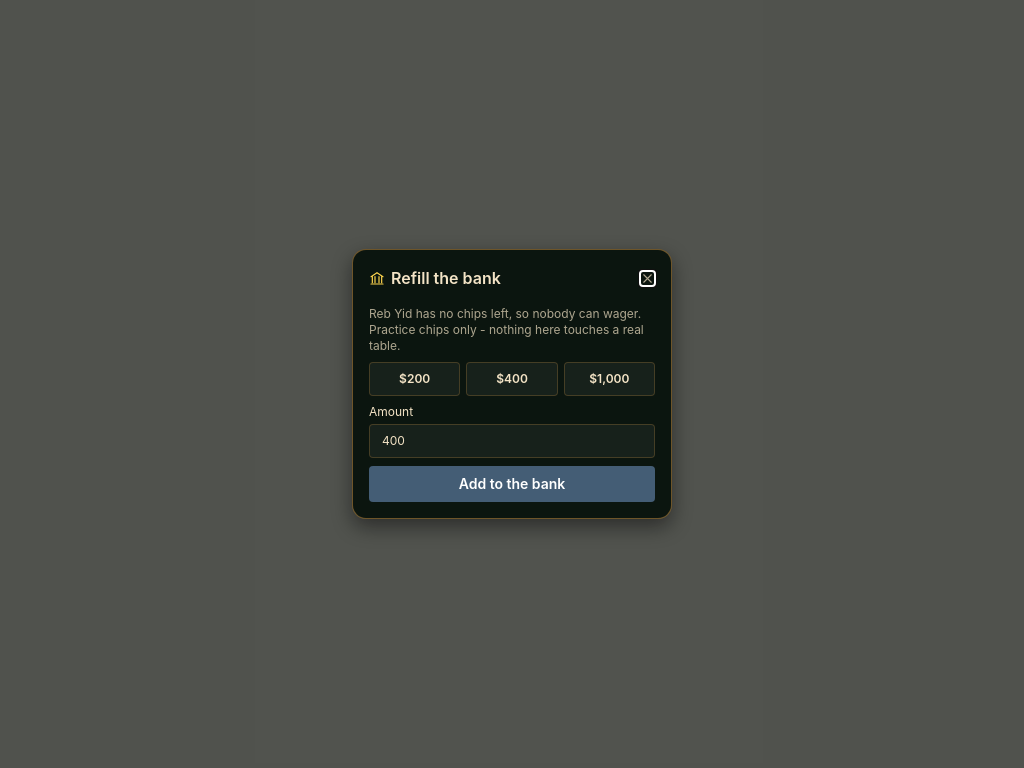
Scenario: choosing what to put back into a practice bank › refuses to send nothing, and says why
The width and height of the screenshot is (1024, 768).
Click the number field named "Bank refill amount": (512, 441) x1=369 y1=424 x2=655 y2=458
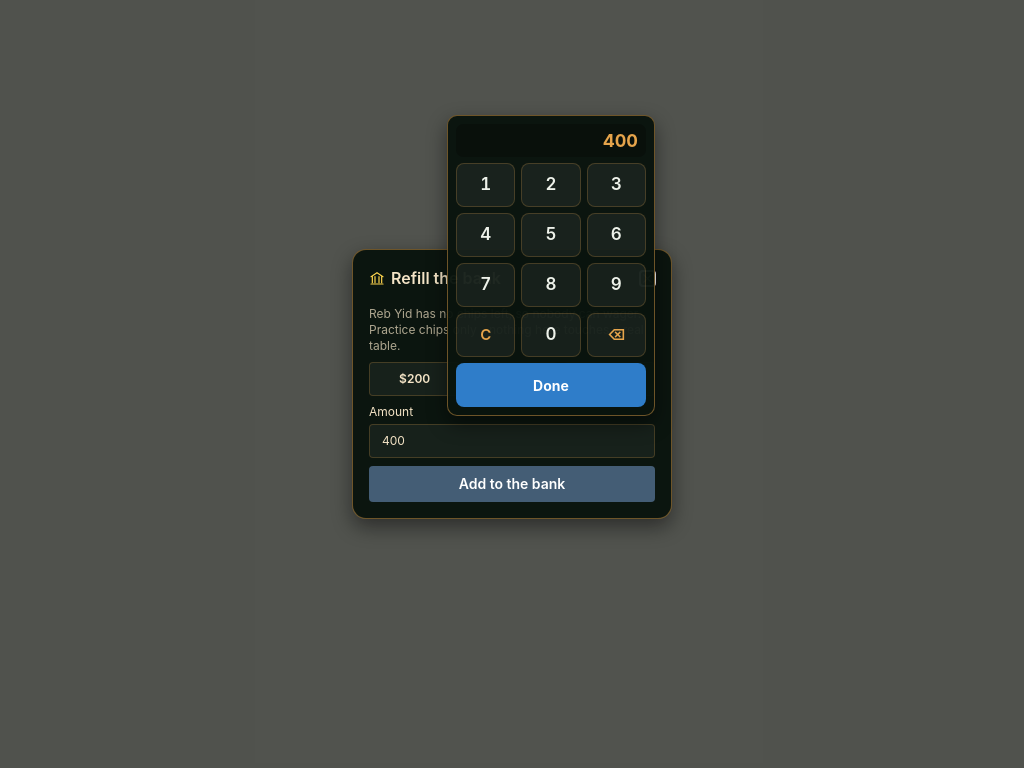
Click the button named "Clear": (486, 335) x1=456 y1=313 x2=515 y2=357
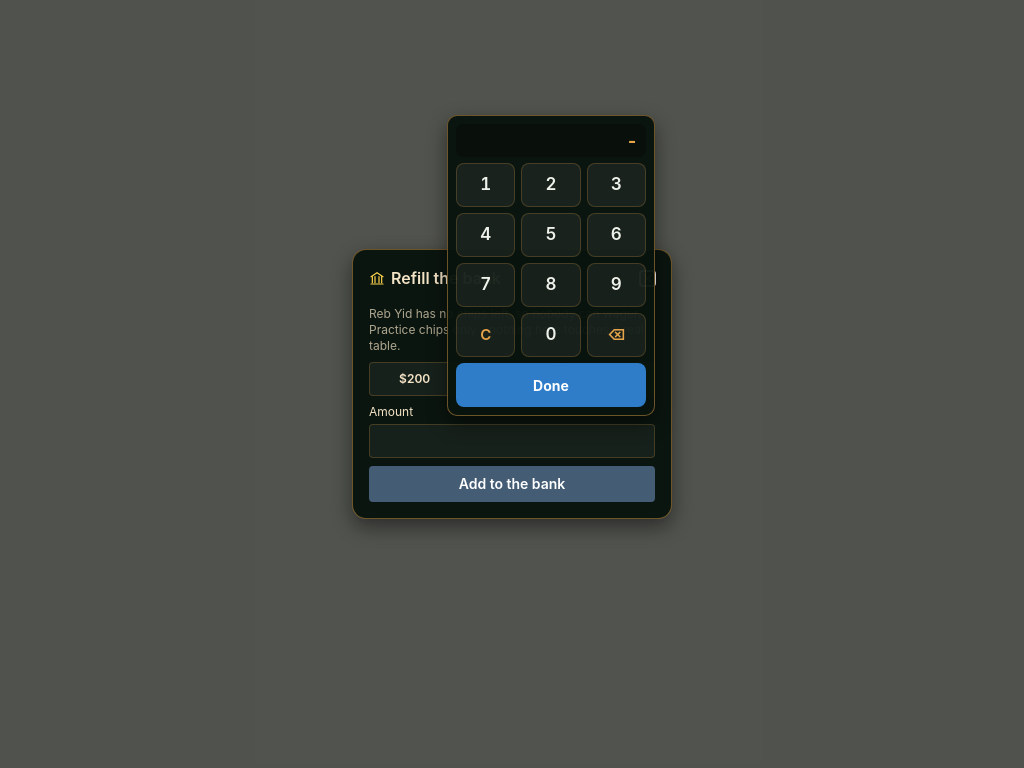
Click the button "0": (551, 335) x1=521 y1=313 x2=581 y2=357
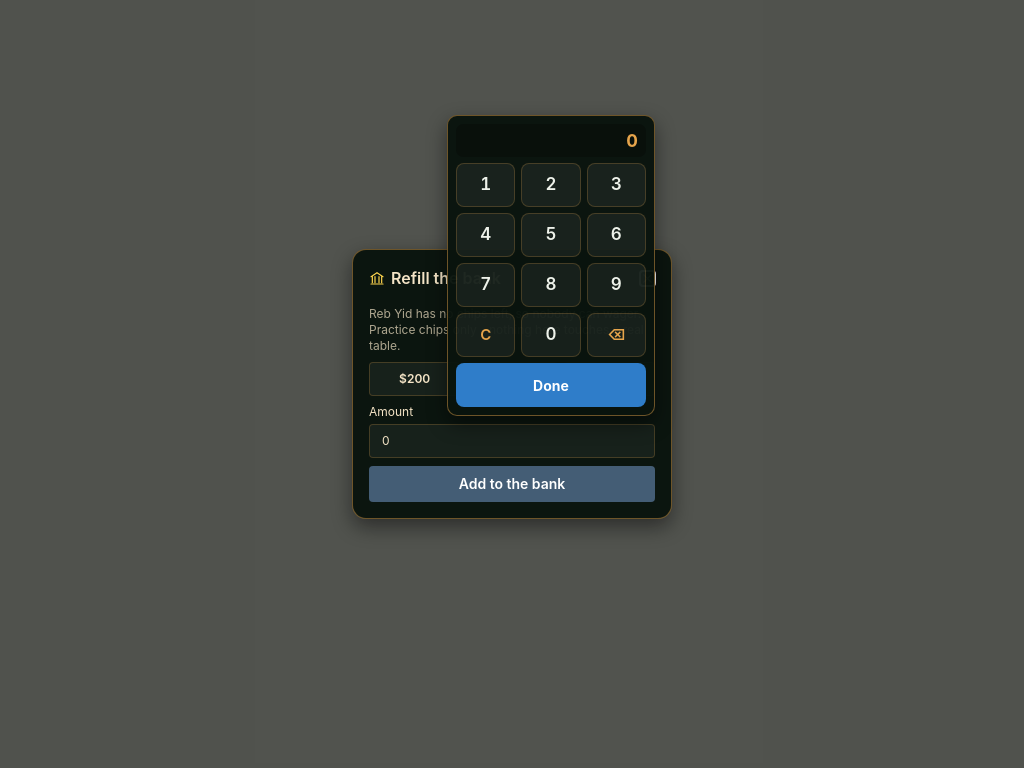
Click the button "Done": (551, 385) x1=456 y1=363 x2=646 y2=407
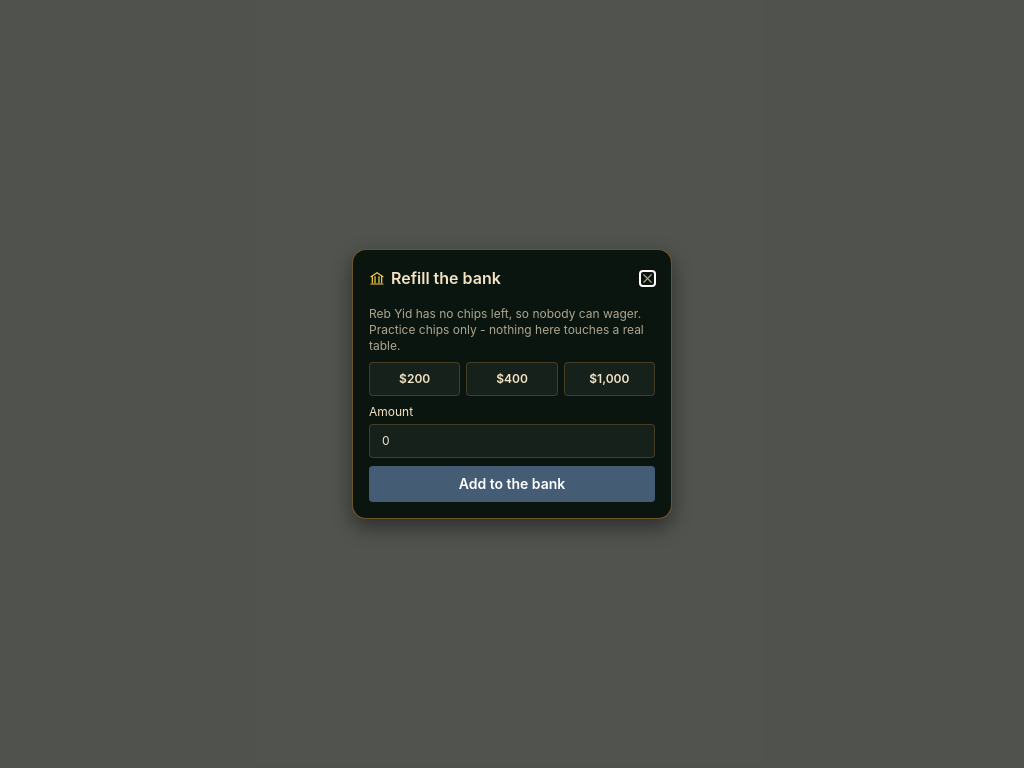
Click the button "Add to the bank": (512, 484) x1=369 y1=466 x2=655 y2=502
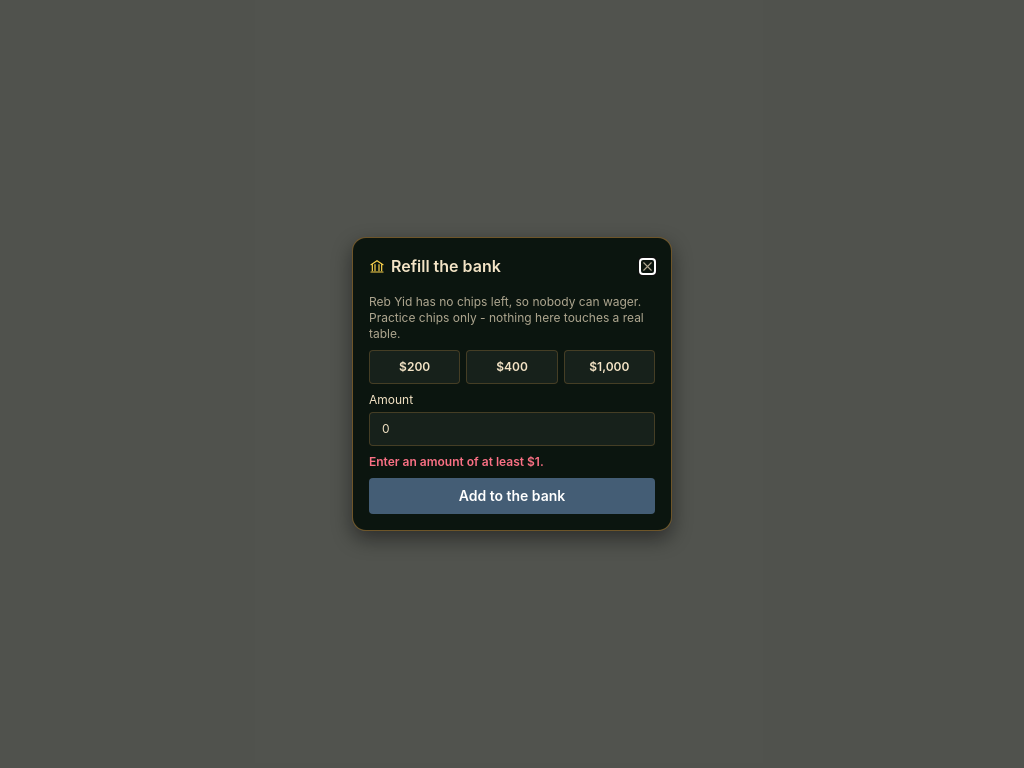
Result: the text "Enter an amount of at least $1." is shown at x1=369 y1=454 x2=544 y2=469
